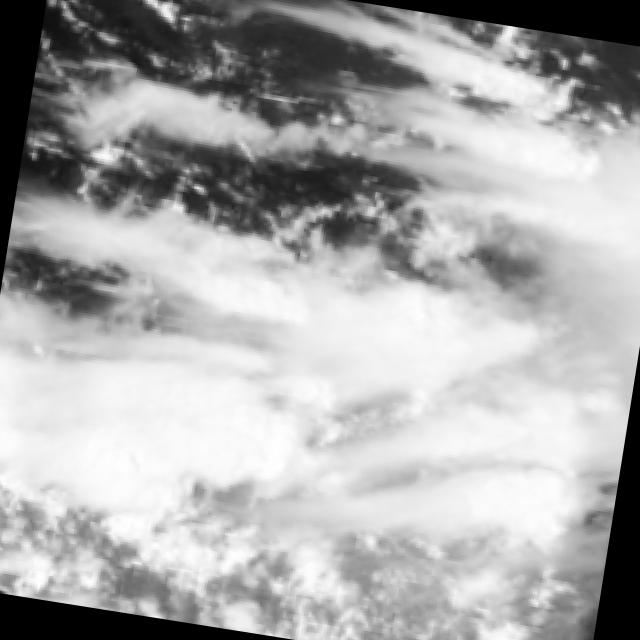CB: (0, 334, 294, 540)
